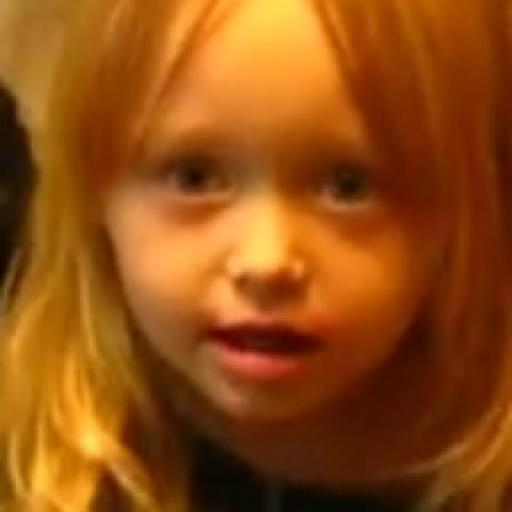Autism: (0, 2, 512, 440)
